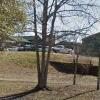Tree: (2, 0, 80, 57)
